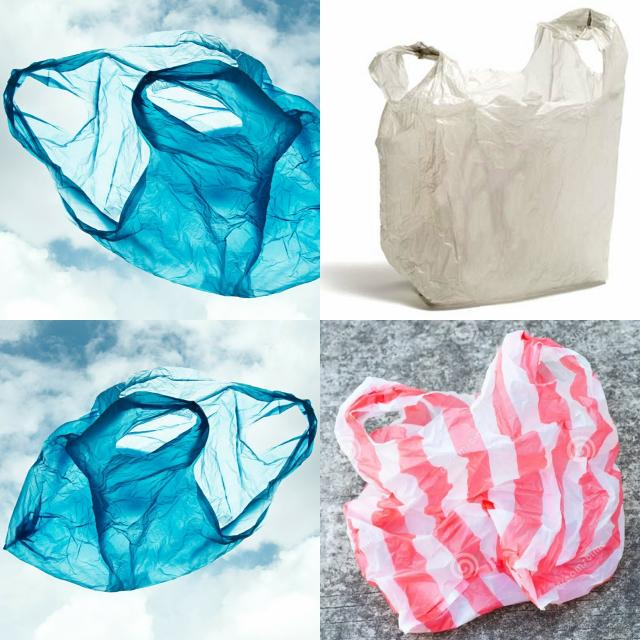Single-layer Plastic: (335, 331, 624, 632), (4, 31, 319, 298), (370, 9, 628, 308), (5, 368, 316, 591)
